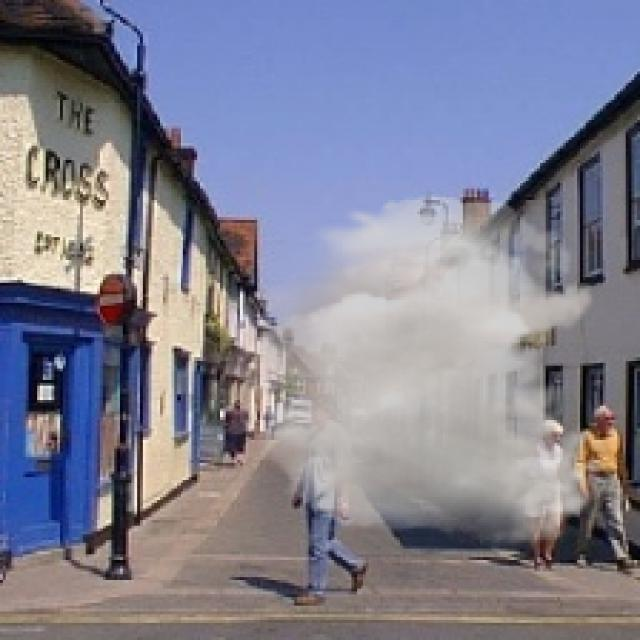Smoke: (206, 194, 608, 546)
